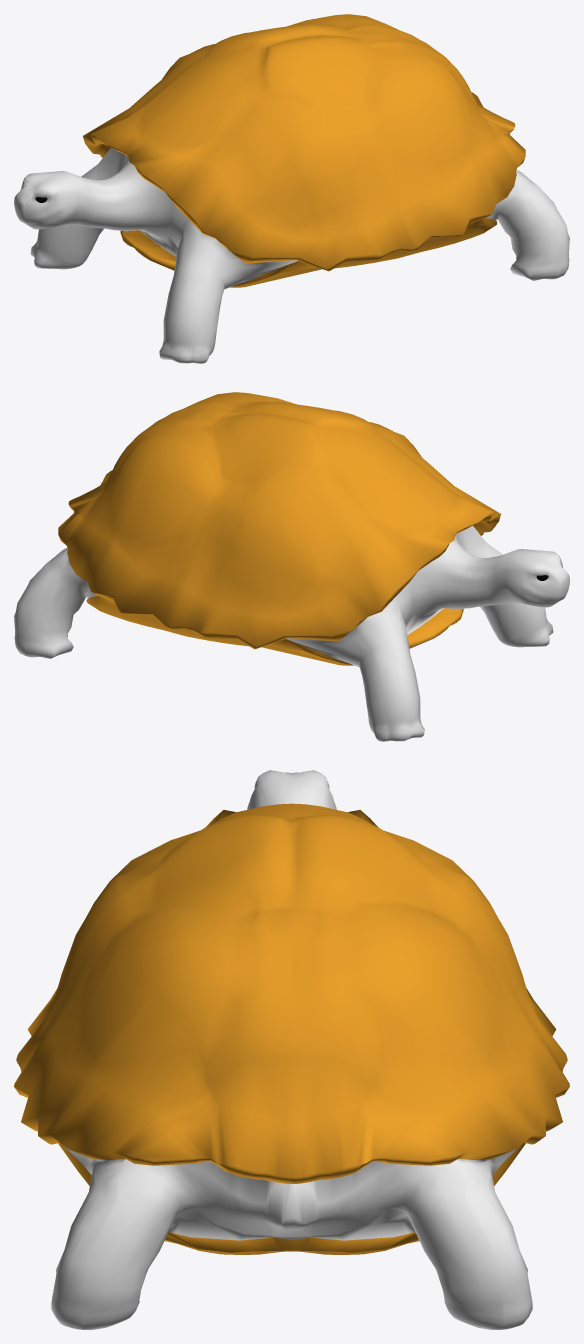
The model's file is KILPIKONNAUUSINLP.fbx.
3 views of the same model, one above another, from view 1: azimuth 30°, elevation 25°; view 2: azimuth 150°, elevation 25°; view 3: azimuth 270°, elevation 25° (orthographic). The views are drawn at different scales.
Visible parts, largest first — view 1: kilpikonnalp; view 2: kilpikonnalp; view 3: kilpikonnalp.
Boxes of the visible parts, x1,y1,x2,y2 form: kilpikonnalp: (14, 14, 569, 363); kilpikonnalp: (14, 392, 569, 741); kilpikonnalp: (14, 770, 569, 1329).
Bounding box in the file's own units: 2.08 × 0.9615 × 1.38.
